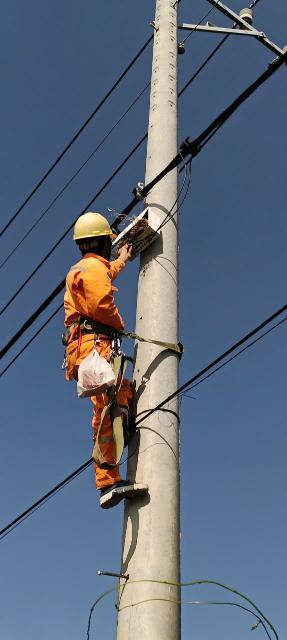harness: (61, 320, 127, 343)
helmet: (68, 209, 120, 244)
shoes: (77, 477, 164, 505), (108, 405, 151, 440)
